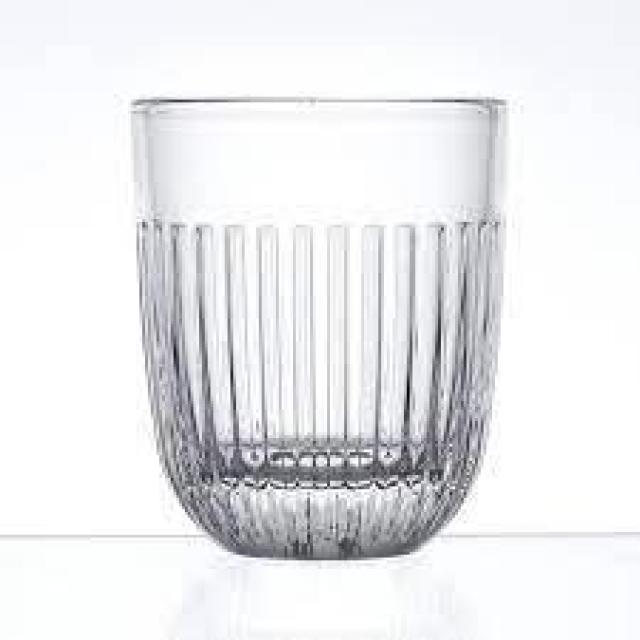non-organic waste: (126, 95, 508, 562)
